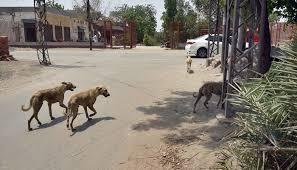normal_dogs: (18, 82, 77, 125), (67, 87, 115, 130), (190, 83, 233, 119), (182, 48, 200, 80)
